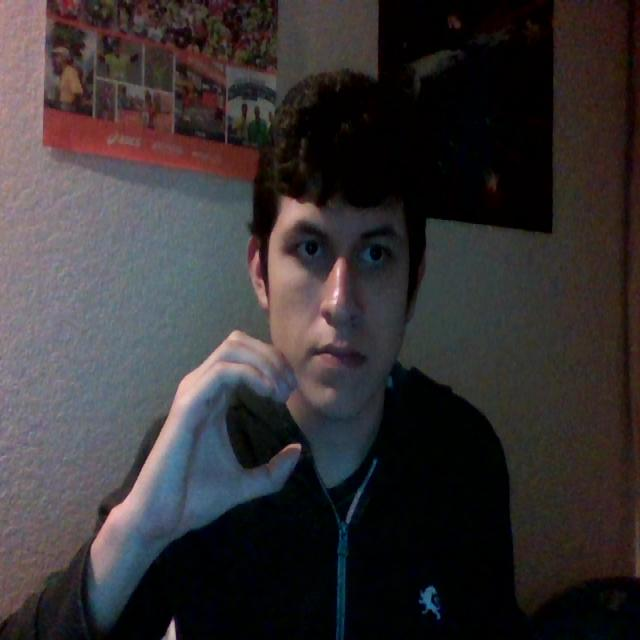C: (126, 319, 313, 543)
